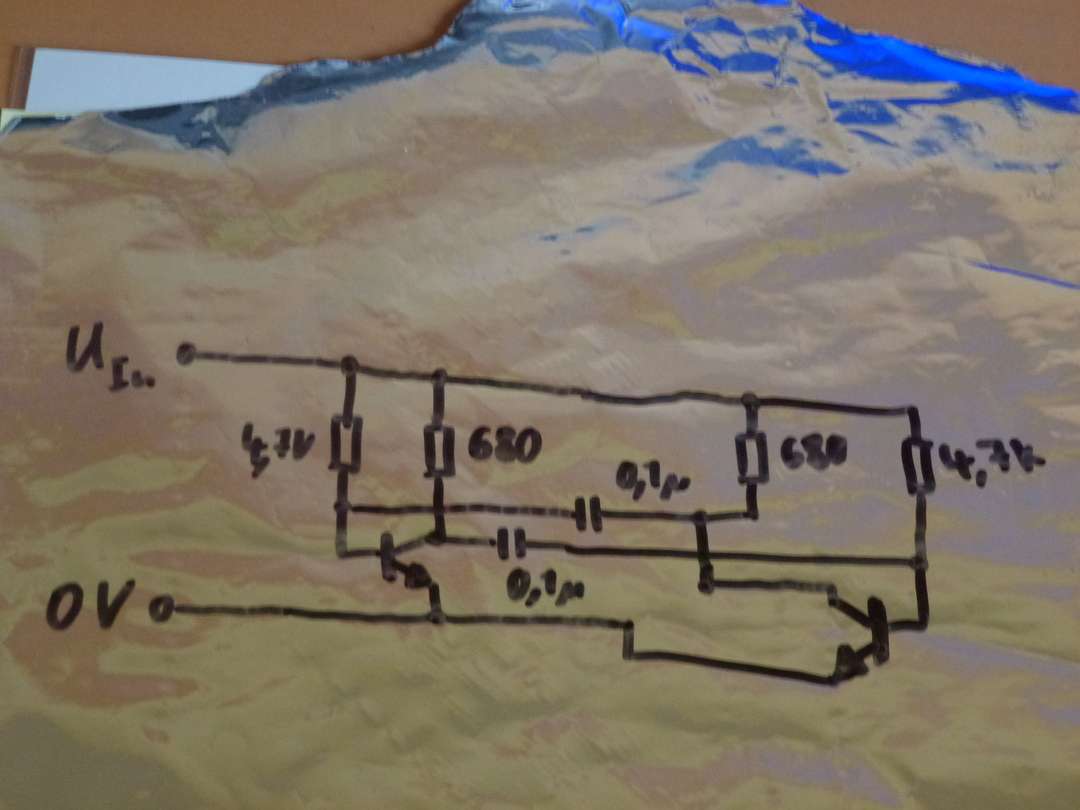capacitor.unpolarized: (492, 526, 531, 563), (572, 493, 605, 536)
crossover: (693, 548, 716, 563), (429, 501, 449, 517)
junction: (338, 352, 361, 378), (738, 390, 763, 412), (908, 552, 931, 573), (695, 577, 719, 597), (429, 366, 449, 388), (688, 507, 710, 527), (331, 498, 354, 516), (424, 609, 448, 626), (427, 529, 449, 547), (617, 614, 637, 633), (914, 616, 932, 635), (619, 646, 638, 664), (742, 506, 762, 523), (902, 401, 921, 417), (332, 546, 351, 561), (819, 581, 839, 593)
resistor: (327, 411, 365, 476), (899, 434, 937, 496), (733, 428, 772, 488), (422, 422, 458, 480)
terminal: (146, 592, 180, 625), (173, 340, 201, 368)
text: (64, 320, 158, 394), (938, 437, 1049, 490), (43, 577, 137, 633), (240, 420, 318, 479), (505, 565, 587, 610), (614, 457, 693, 503), (465, 422, 545, 467), (777, 431, 850, 473)
transistor: (826, 595, 893, 687), (379, 528, 433, 589)
